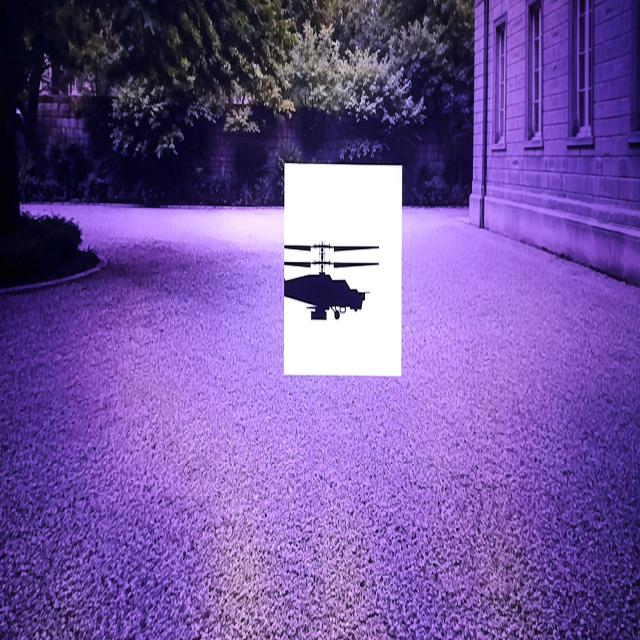Ka-52 Enemy: (285, 243, 378, 319)
